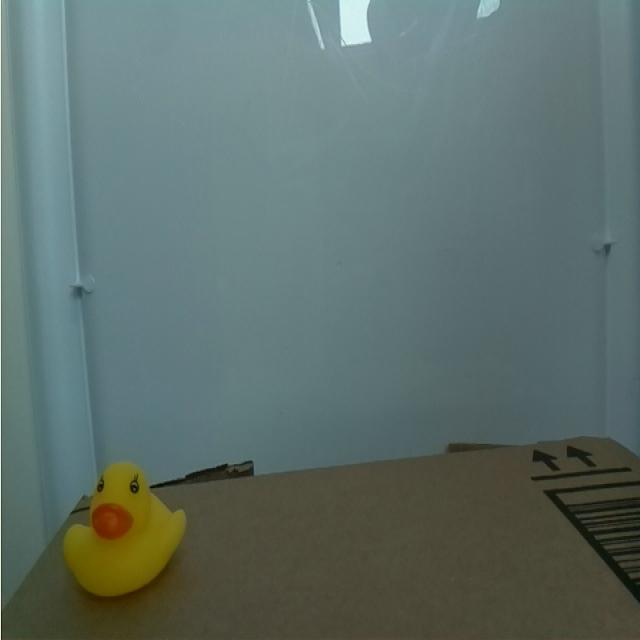sign_stop: (35, 427, 211, 622)
